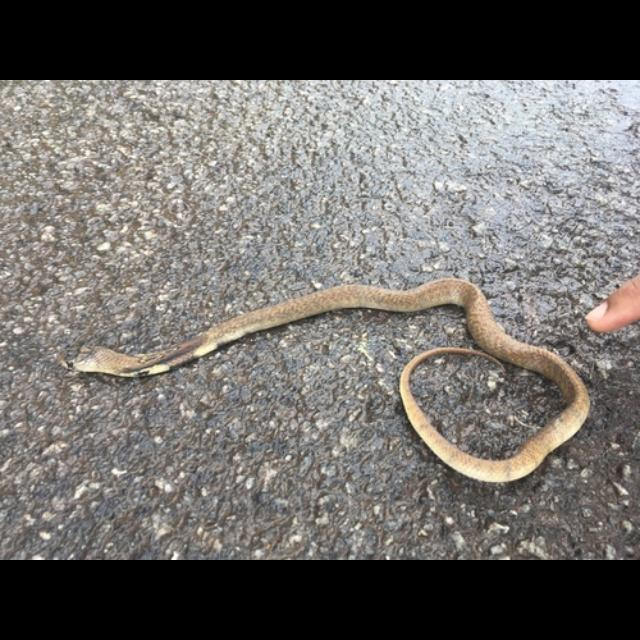snake: (63, 263, 589, 501)
